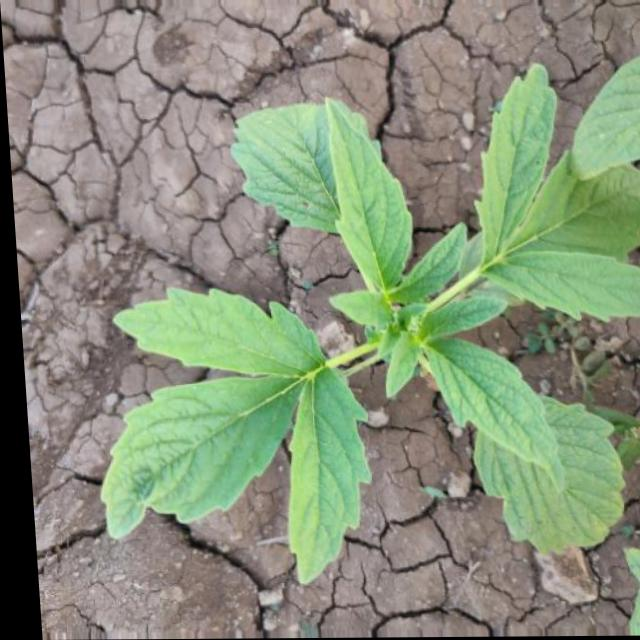crop: (75, 65, 640, 580)
